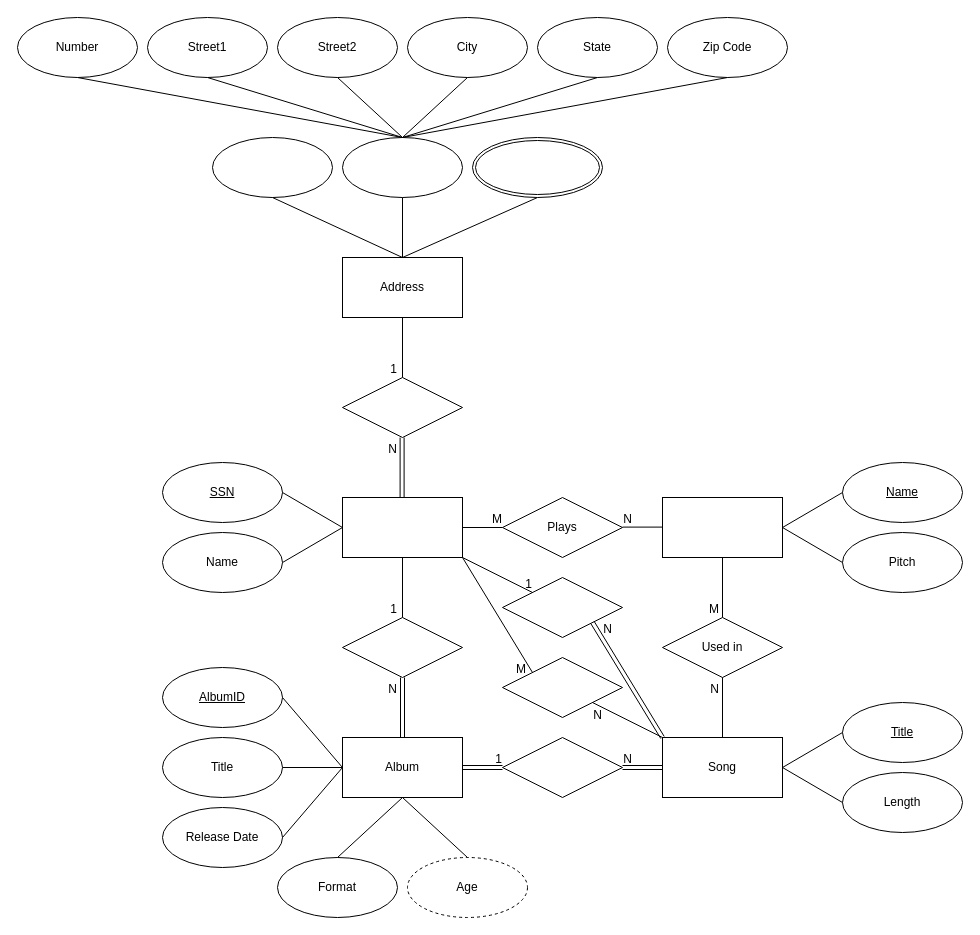
This 980x935 diagram has some shape labels left out. Here are the shapes that lost their labels. From the top down, the centre of each, then its label:
At (x=272, y=167): "AddressID".
At (x=402, y=167): "Street Address".
At (x=537, y=167): "Telephone".
At (x=402, y=407): "Lives at".
At (x=402, y=527): "Musician".
At (x=722, y=527): "Instument".
At (x=562, y=607): "Authorship".
At (x=402, y=647): "Producer".
At (x=562, y=687): "Performer".
At (x=562, y=767): "Belong to".
